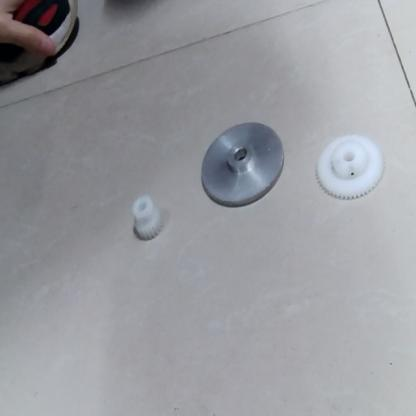FOD: (197, 118, 287, 213), (314, 132, 386, 202), (127, 192, 164, 246)
